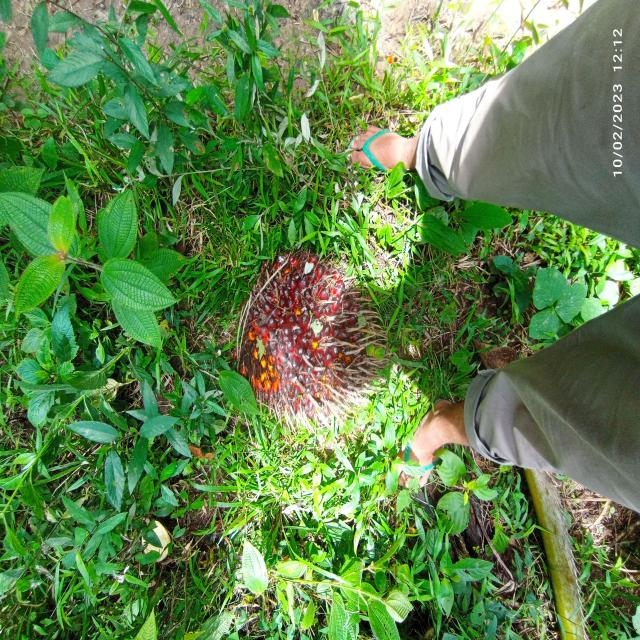fraksi 3: (231, 237, 402, 435)
